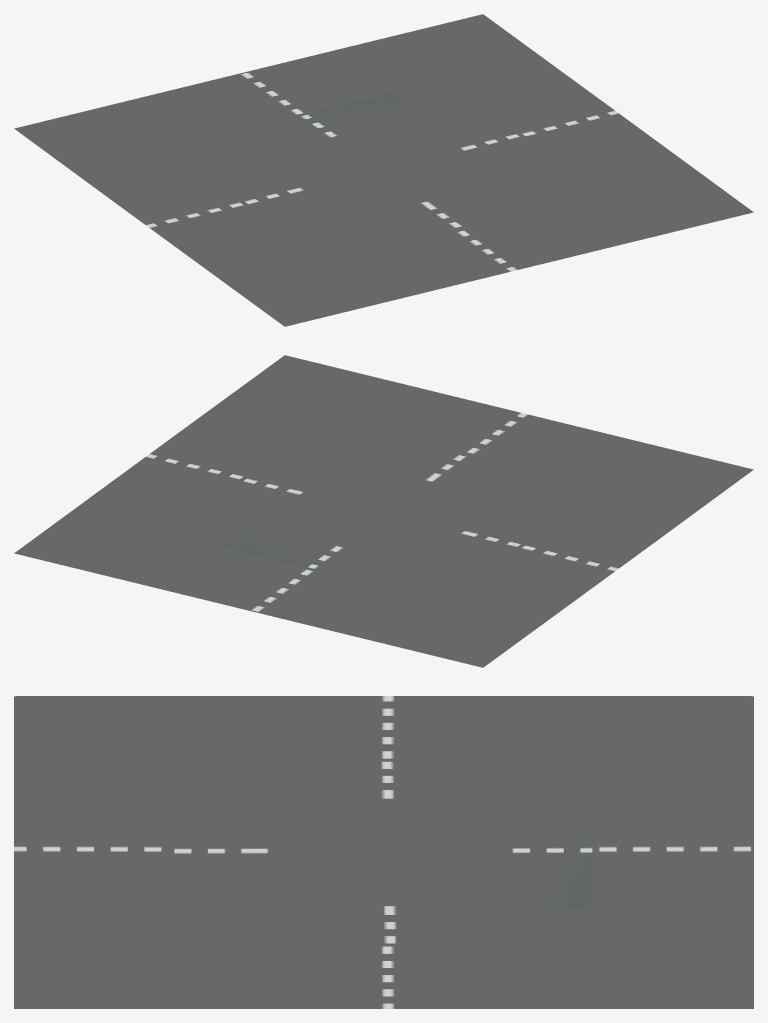
File: nga tu.fbx
The picture shows the model from 3 angles, top to bottom: view 1: azimuth 30°, elevation 25°; view 2: azimuth 150°, elevation 25°; view 3: azimuth 270°, elevation 25°; orthographic projection. The views are drawn at different scales.
Parts seen in each view (by area): view 1: nga_tu; view 2: nga_tu; view 3: nga_tu.
Part boxes in pixels (x1,y1,x2,y2): nga_tu: [14, 14, 753, 326]; nga_tu: [14, 355, 753, 667]; nga_tu: [14, 696, 753, 1008].
Bounding box in the file's own units: 3905 × 0 × 3903.
